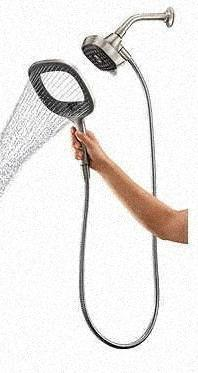Ducha: (0, 2, 179, 372)
